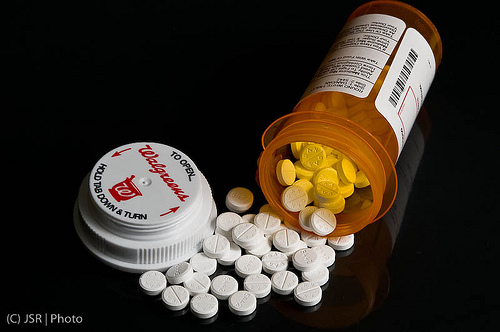pill bottle: (263, 1, 443, 236)
